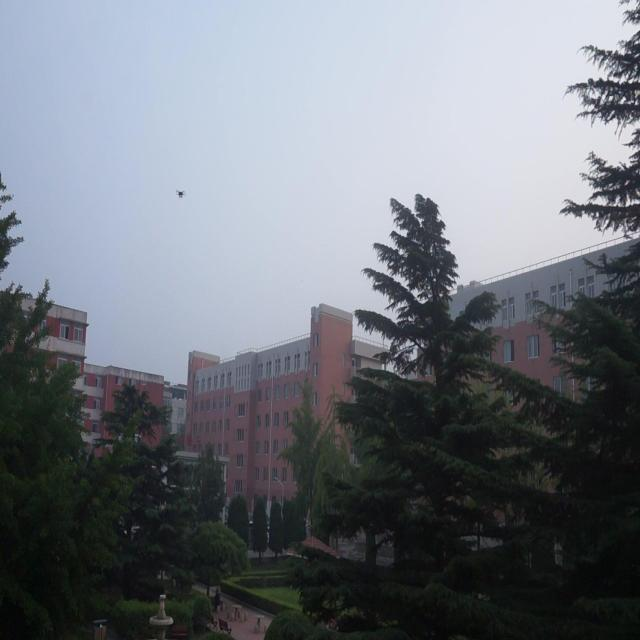drone: (174, 186, 187, 203)
